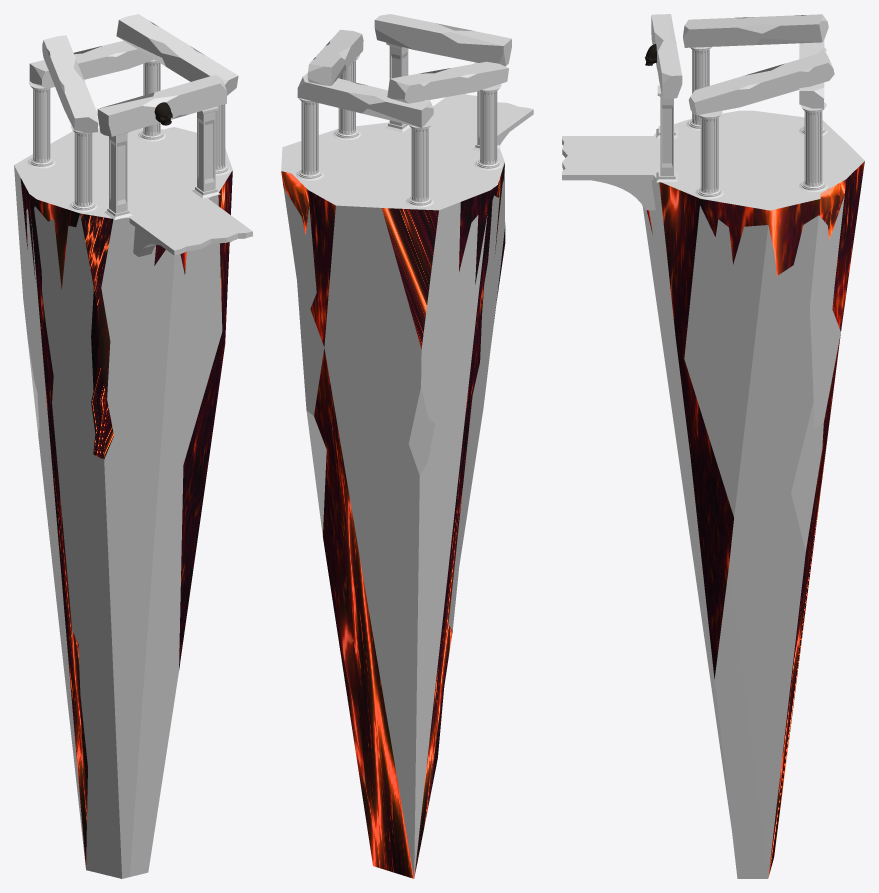
Rendered from KUSTLES2.fbx.
3 renders of one model, left to right at view 1: azimuth 30°, elevation 25°; view 2: azimuth 150°, elevation 25°; view 3: azimuth 270°, elevation 25°, orthographic. The views are drawn at different scales.
Parts seen in each view (by area): view 1: BézierCurve; view 2: BézierCurve; view 3: BézierCurve.
Boxes of the visible parts, x1=… form: BézierCurve: x1=14, y1=14, x2=252, y2=878; BézierCurve: x1=281, y1=14, x2=533, y2=878; BézierCurve: x1=562, y1=14, x2=864, y2=878.
Size of the model in its own units: 1534 by 5974 by 1966.
Materials: 6 (2 with a texture image).
